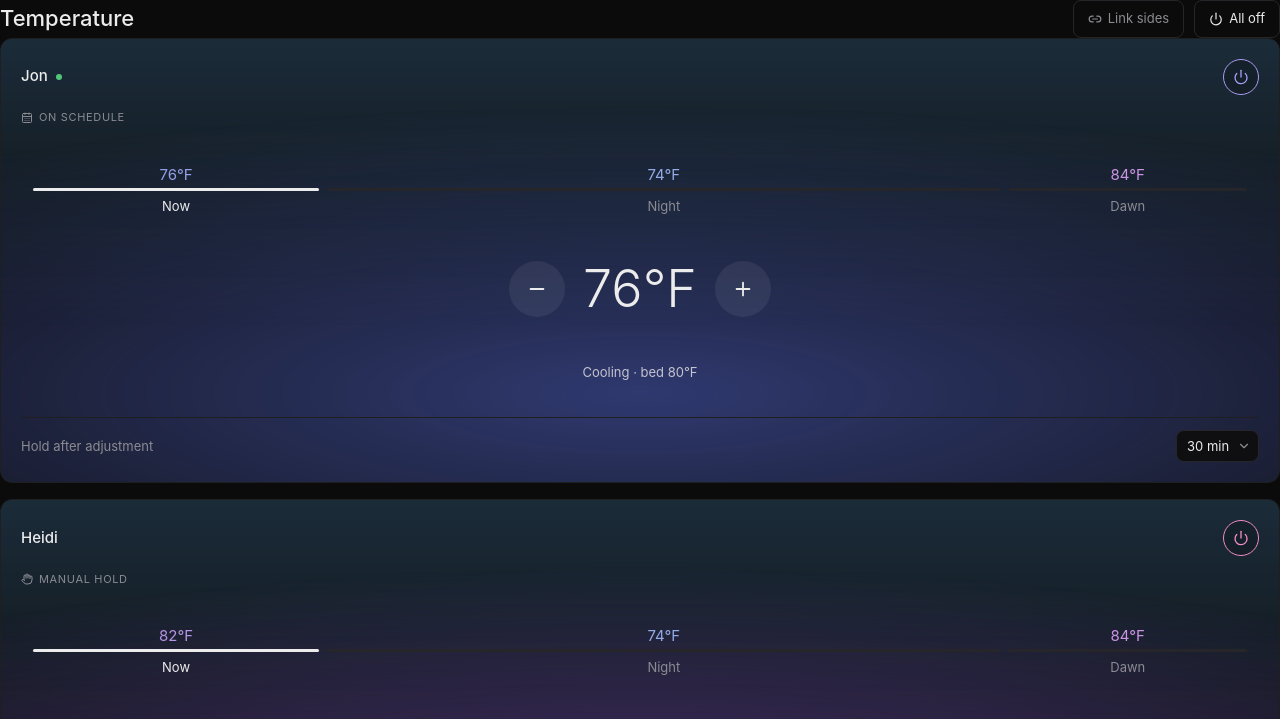
Test case: TempScreen › stepper variant › keeps the tab per side unless linked
Click the tab "74°F Night" below "On schedule". click: x=664, y=191
box: [327,166,1000,216]
(page scrolled)
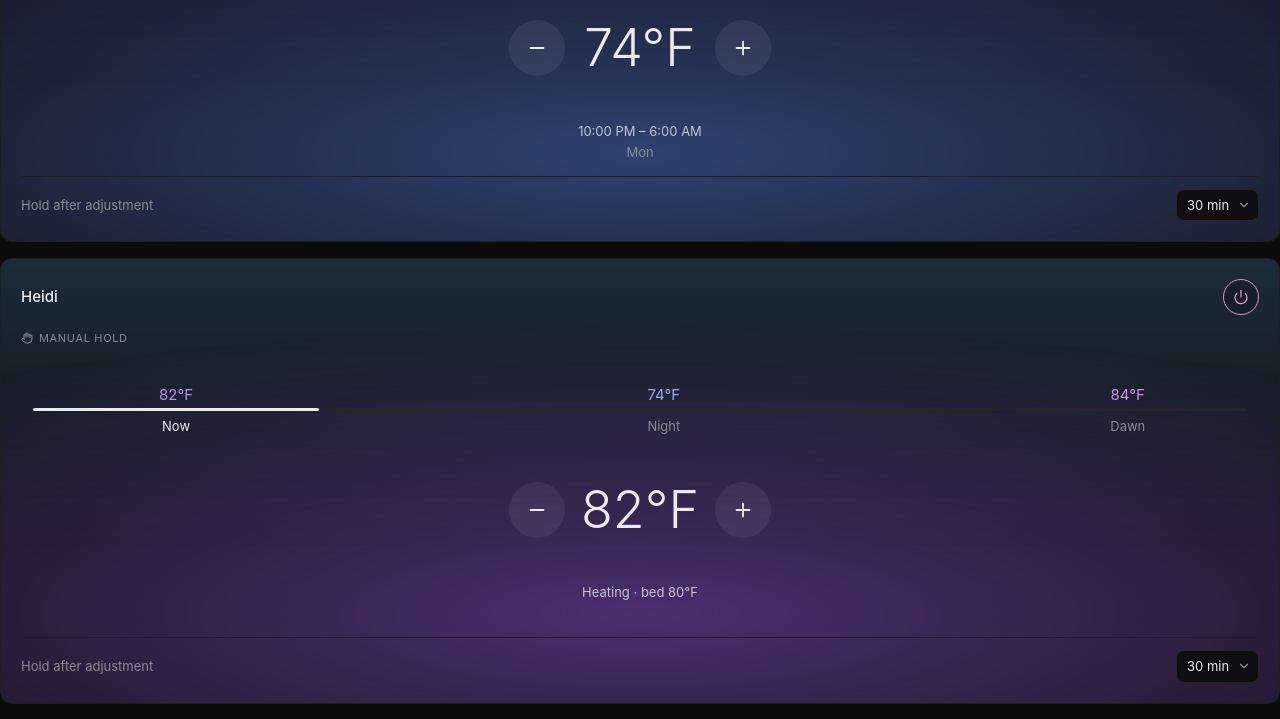
Check: the 2nd text with test id "stepper-value" reads "82°F", box [581,478,699,541]
Check: the 1st text with test id "stepper-value" reads "74°F", box [584,16,696,79]
